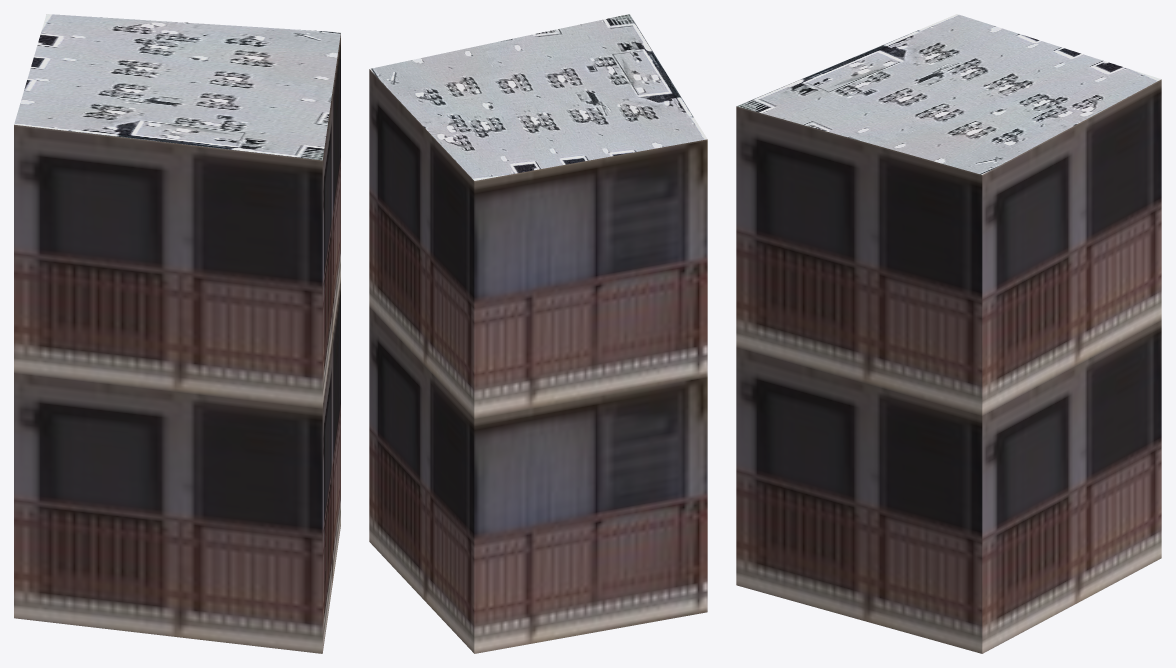
The model's file is ResTex__5051.fbx.
The picture shows the model from 3 angles, left to right: view 1: azimuth 30°, elevation 25°; view 2: azimuth 150°, elevation 25°; view 3: azimuth 270°, elevation 25°; orthographic projection. The views are drawn at different scales.
Parts seen in each view (by area): view 1: CityEngineMaterial_6_m, CityEngineMaterial_m; view 2: CityEngineMaterial_6_m, CityEngineMaterial_m; view 3: CityEngineMaterial_6_m, CityEngineMaterial_m.
Boxes of the visible parts, x1,y1,x2,y2 form: CityEngineMaterial_6_m: (14, 33, 340, 653); CityEngineMaterial_m: (14, 14, 340, 160); CityEngineMaterial_6_m: (369, 69, 707, 653); CityEngineMaterial_m: (370, 14, 706, 180); CityEngineMaterial_6_m: (736, 79, 1161, 653); CityEngineMaterial_m: (737, 14, 1161, 174).
Size of the model in its own units: 4.32 by 6 by 4.83.
2 materials, 2 textured.
